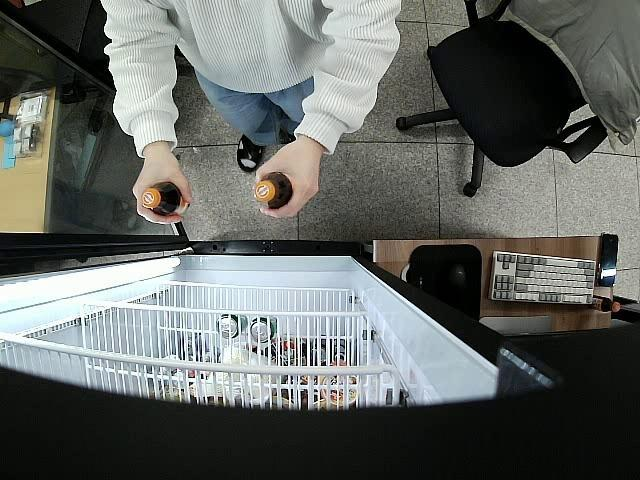17_vita500: (140, 181, 191, 218), (254, 172, 294, 208)
